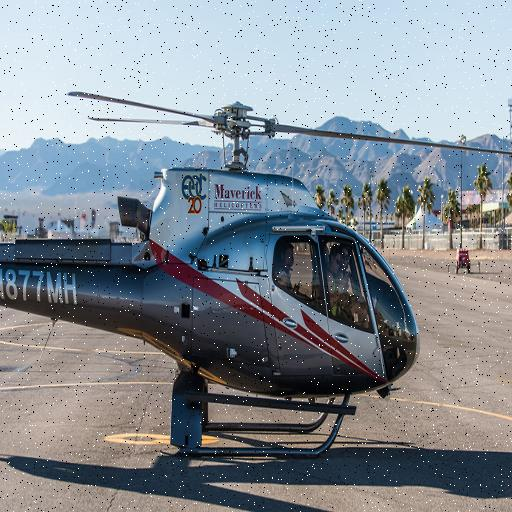helicopter: (1, 65, 470, 469)
